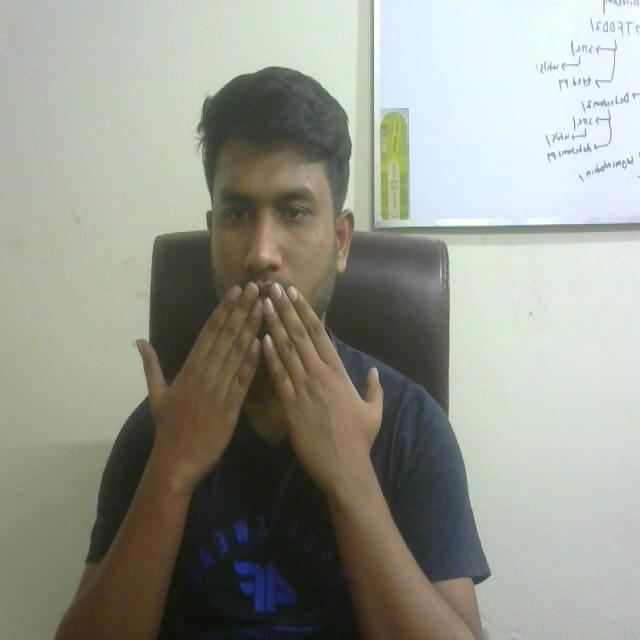Hello: (118, 279, 392, 484)
